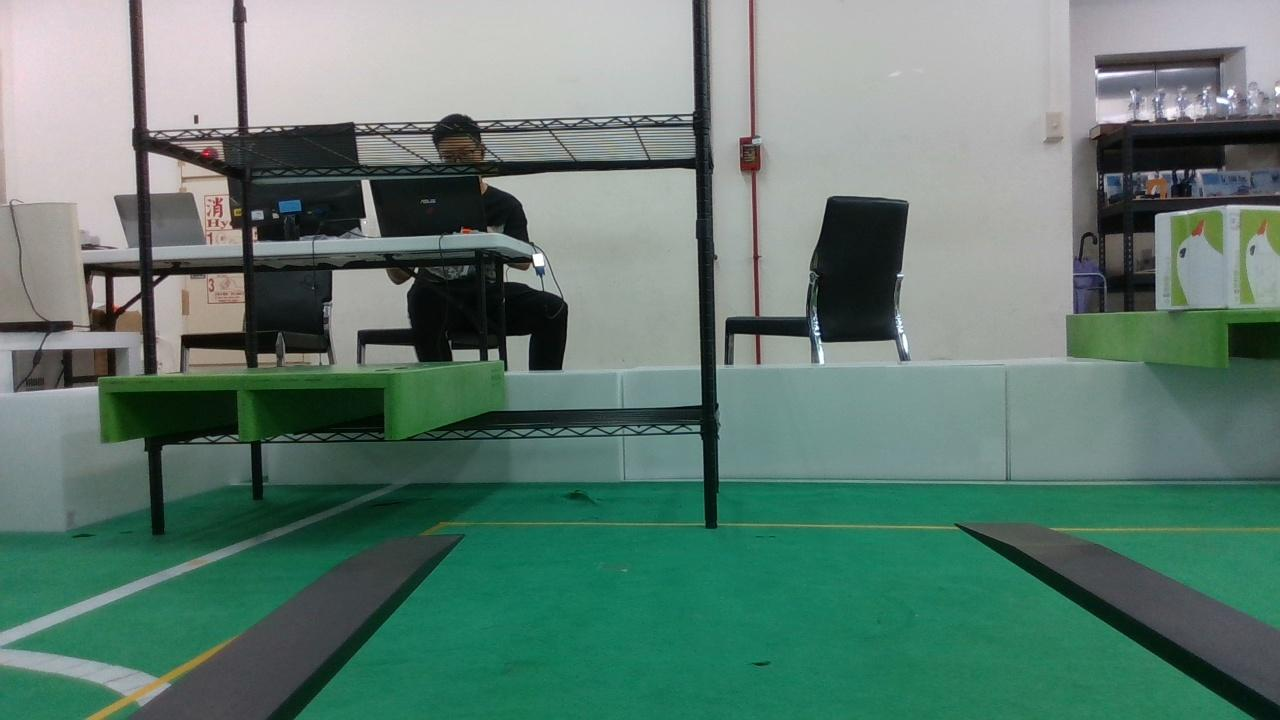Pallet: (95, 374, 403, 443)
